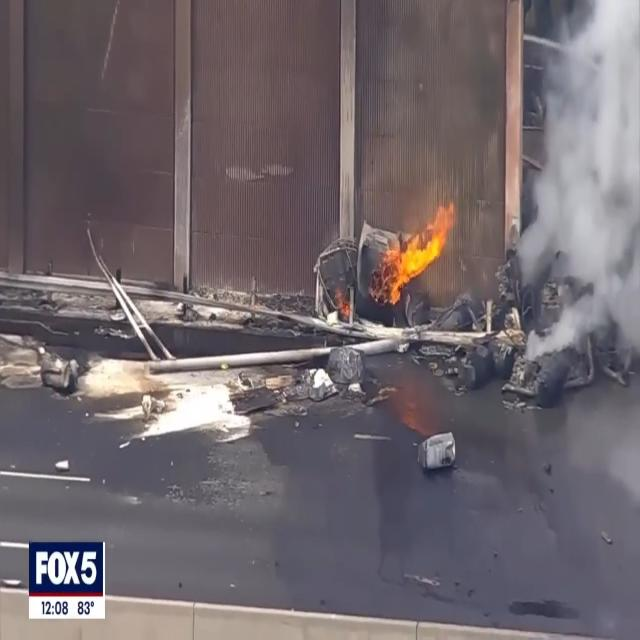fire: (381, 205, 457, 303)
